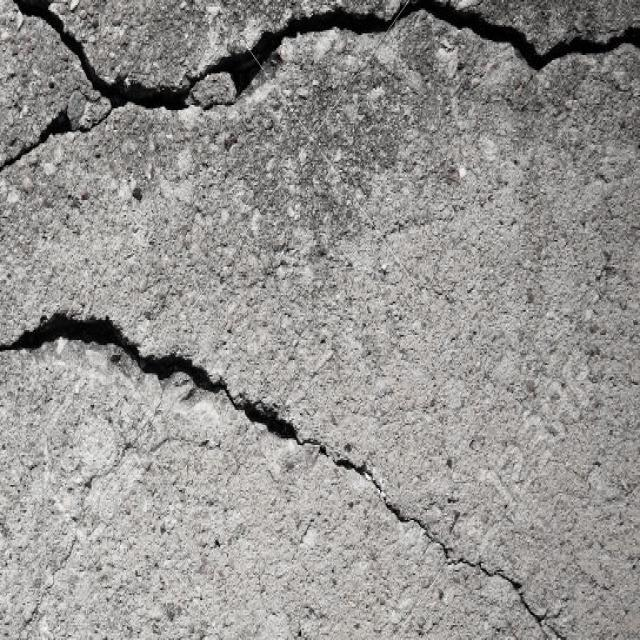Diagonal: (0, 304, 573, 640)
Radial: (0, 0, 640, 194)
